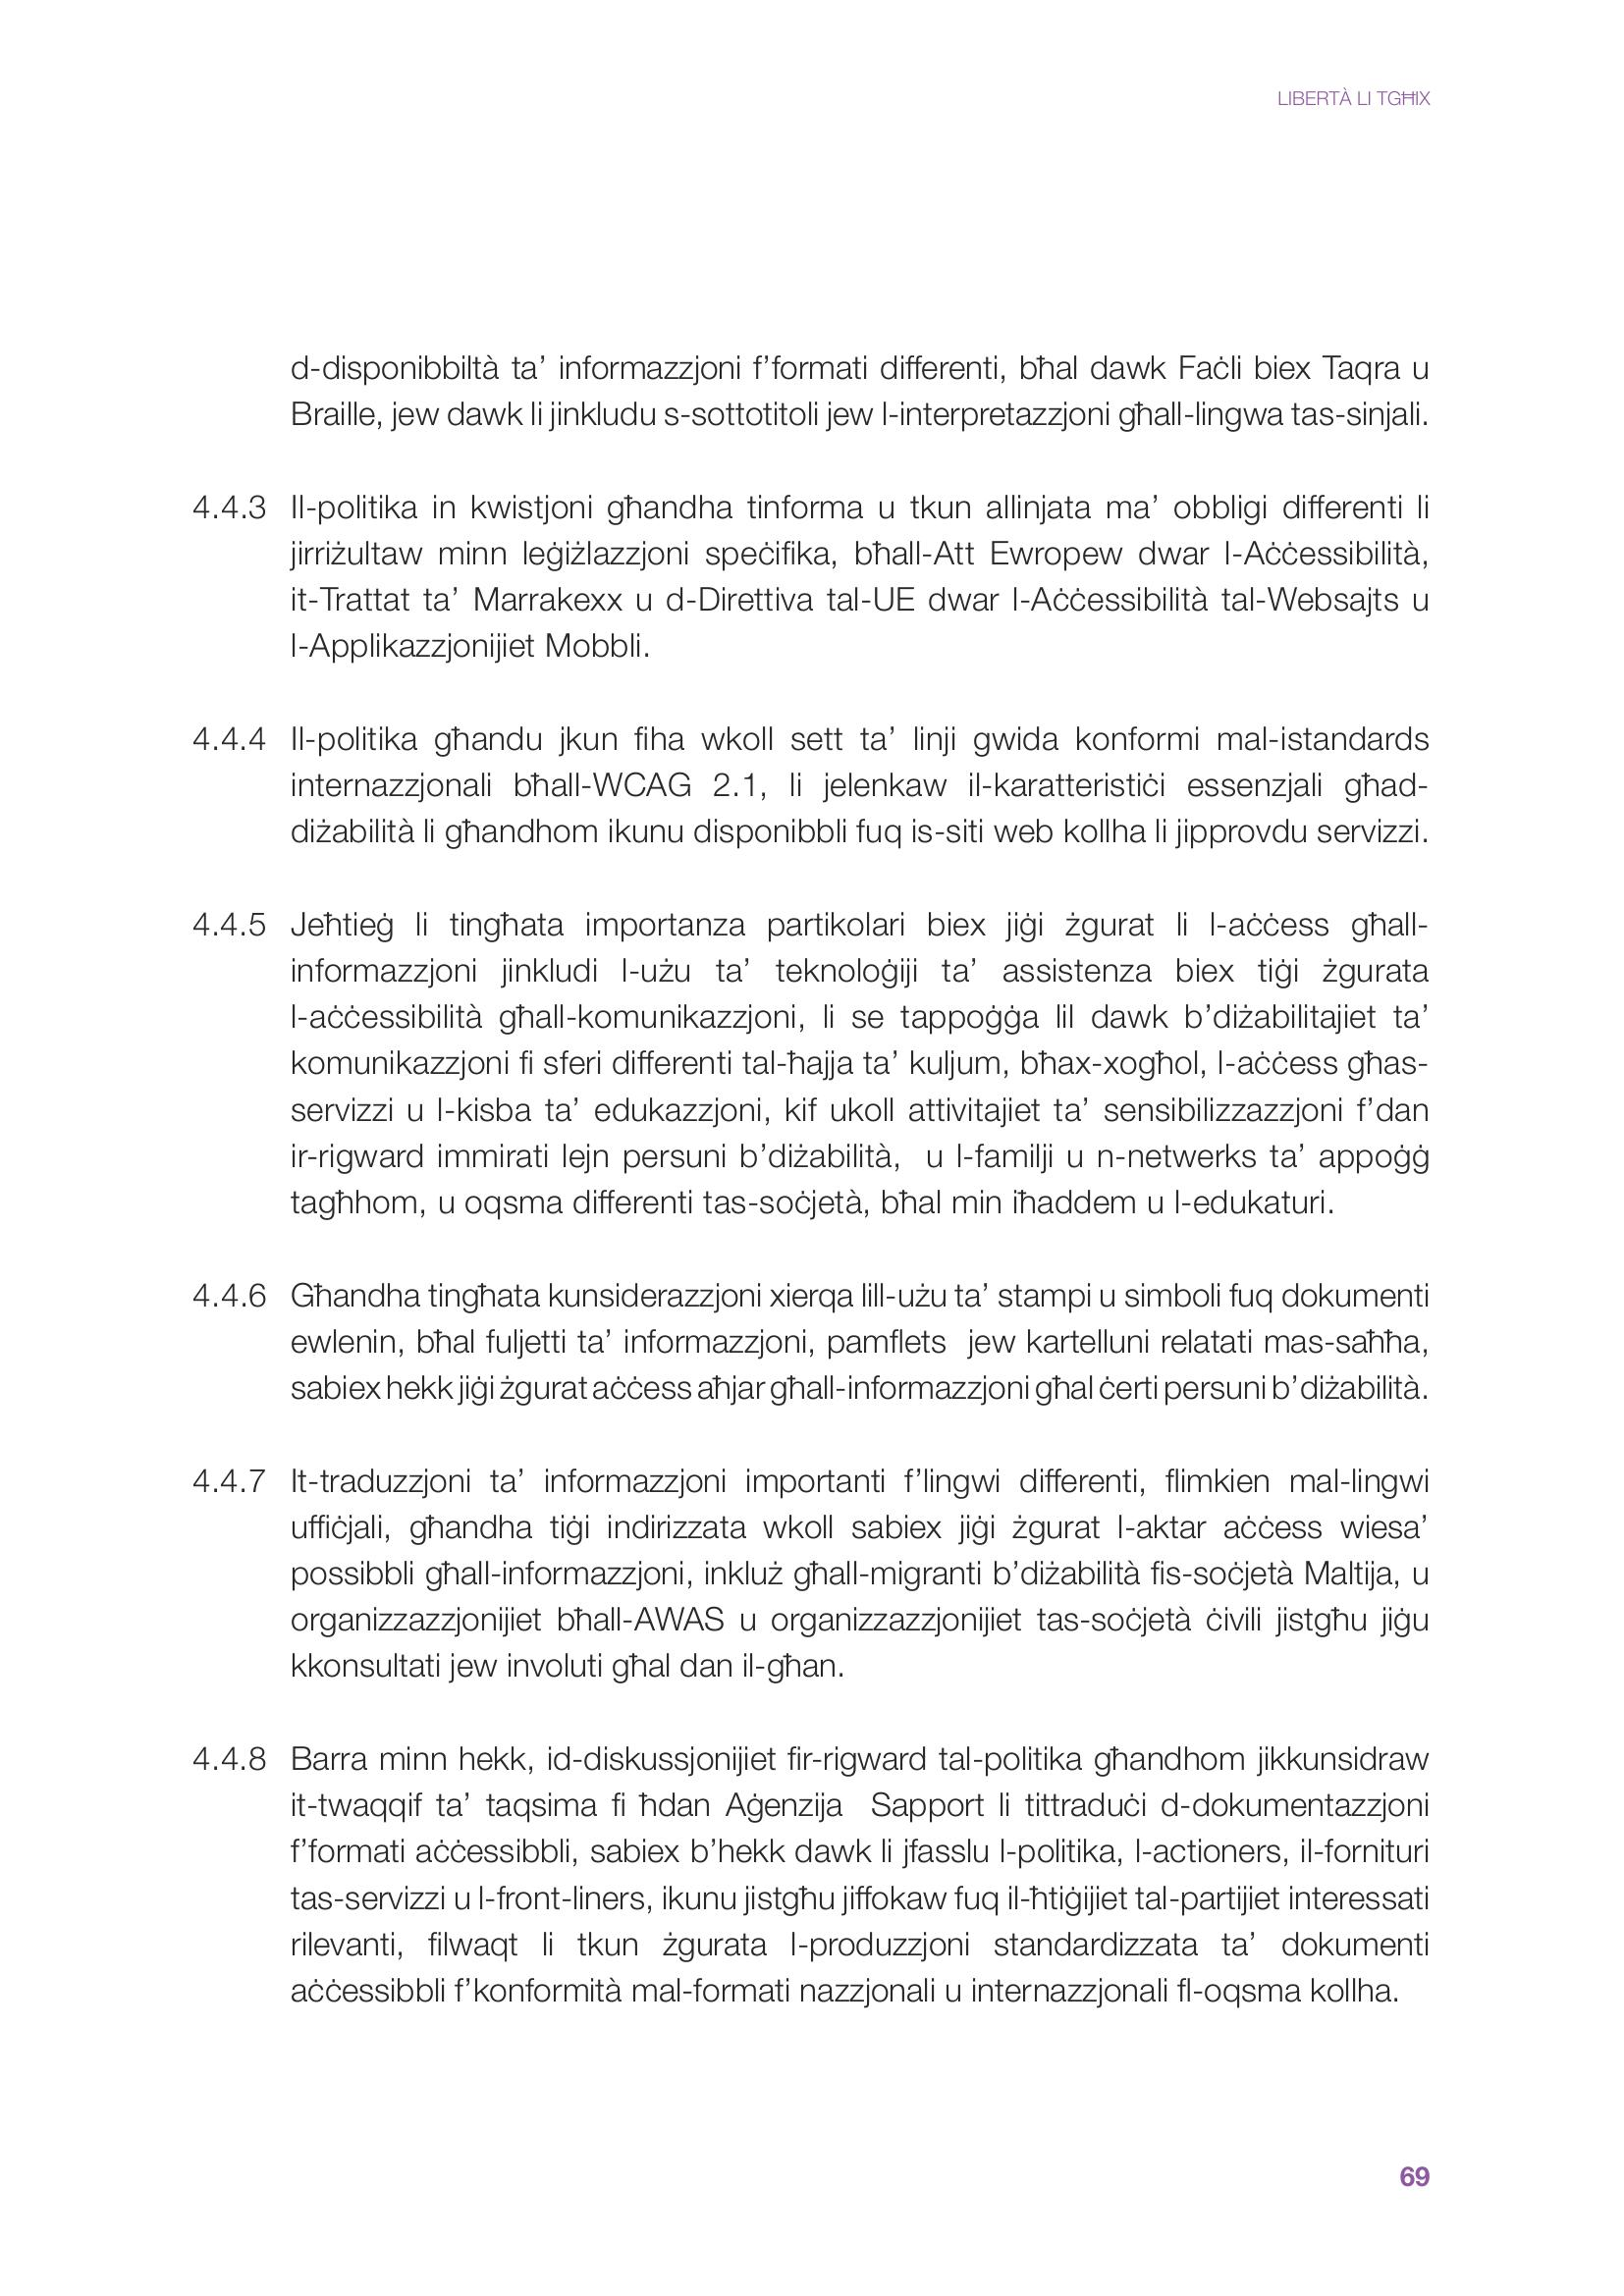text: (158, 321, 1466, 2032)
